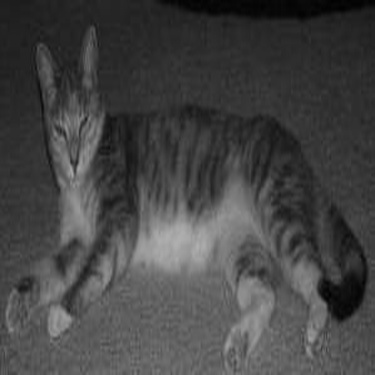cat: (5, 25, 366, 373)
